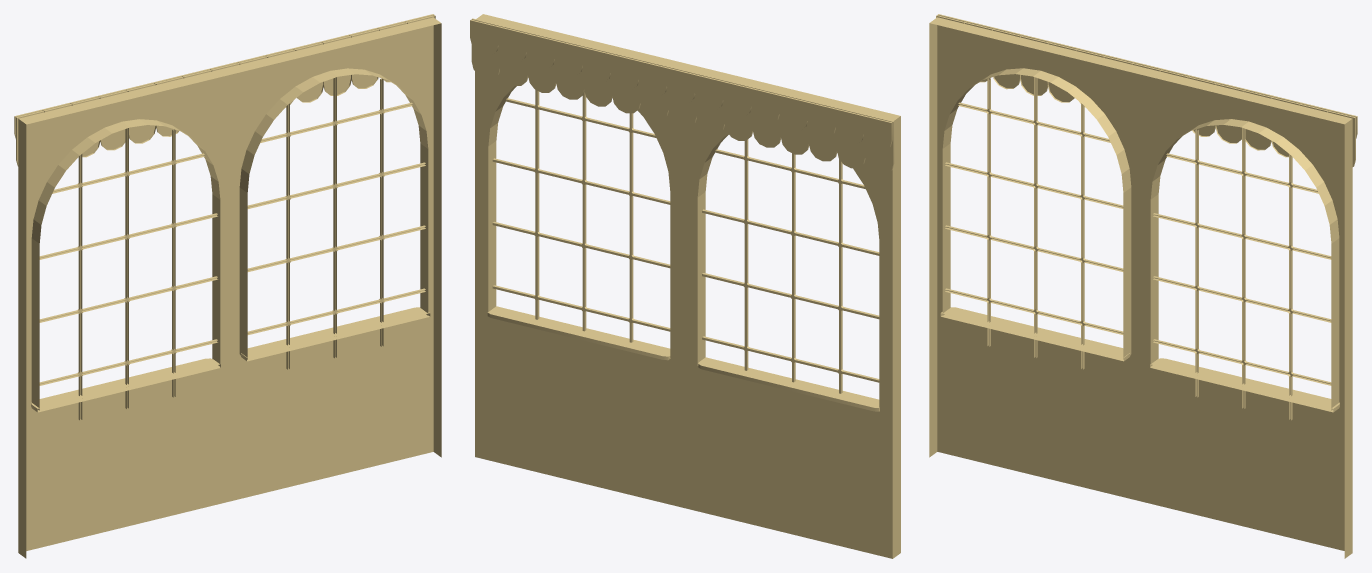
File: WABD_backgrounds_wall_lo.fbx
3 renders of one model, left to right at view 1: azimuth 30°, elevation 25°; view 2: azimuth 150°, elevation 25°; view 3: azimuth 330°, elevation 25°, orthographic.
Parts seen in each view (by area): view 1: wall_lo; view 2: wall_lo; view 3: wall_lo.
Boxes of the visible parts, x1,y1,x2,y2 form: wall_lo: [14, 14, 441, 558]; wall_lo: [470, 14, 900, 558]; wall_lo: [929, 14, 1357, 558].
Size of the model in its own units: 1211 by 1203 by 53.15.
